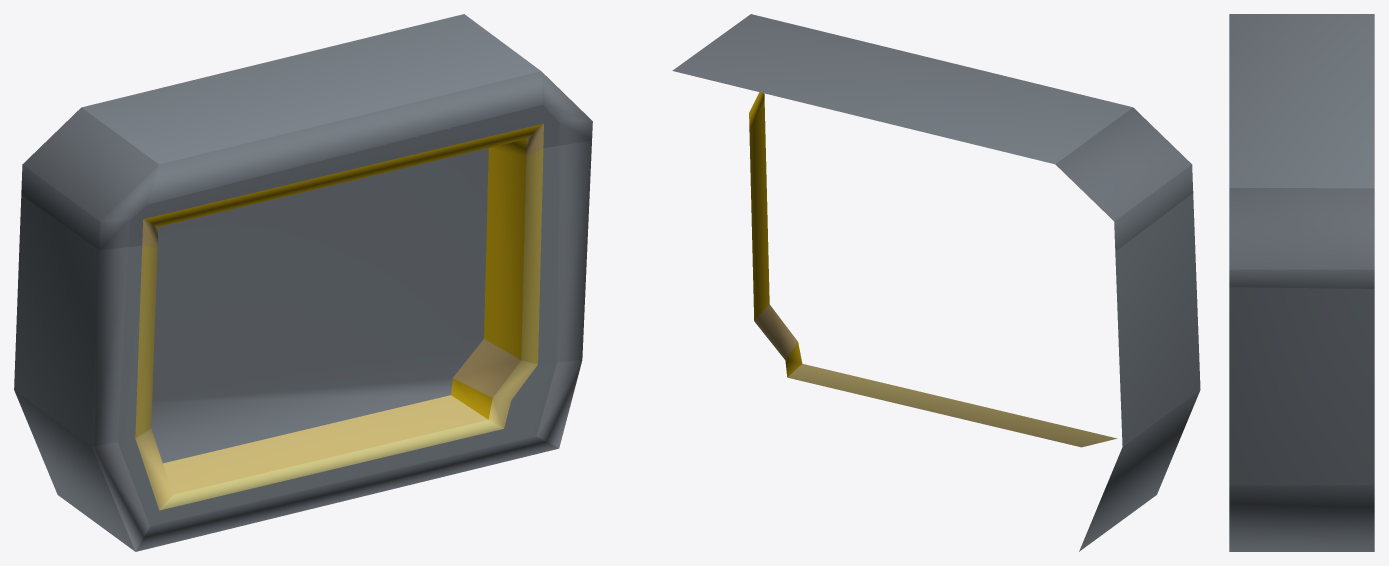
Rendered from RaceTimer.glb.
3 renders of one model, left to right at view 1: azimuth 30°, elevation 25°; view 2: azimuth 150°, elevation 25°; view 3: azimuth 270°, elevation 25°, orthographic. The views are drawn at different scales.
Parts seen in each view (by area): view 1: RaceTimer; view 2: RaceTimer; view 3: RaceTimer.
Part boxes in pixels (bbox=[...]): RaceTimer: bbox=[14, 14, 592, 551]; RaceTimer: bbox=[672, 14, 1200, 551]; RaceTimer: bbox=[1229, 14, 1374, 551].
Size of the model in its own units: 1.35 by 0.9867 by 0.3654.
